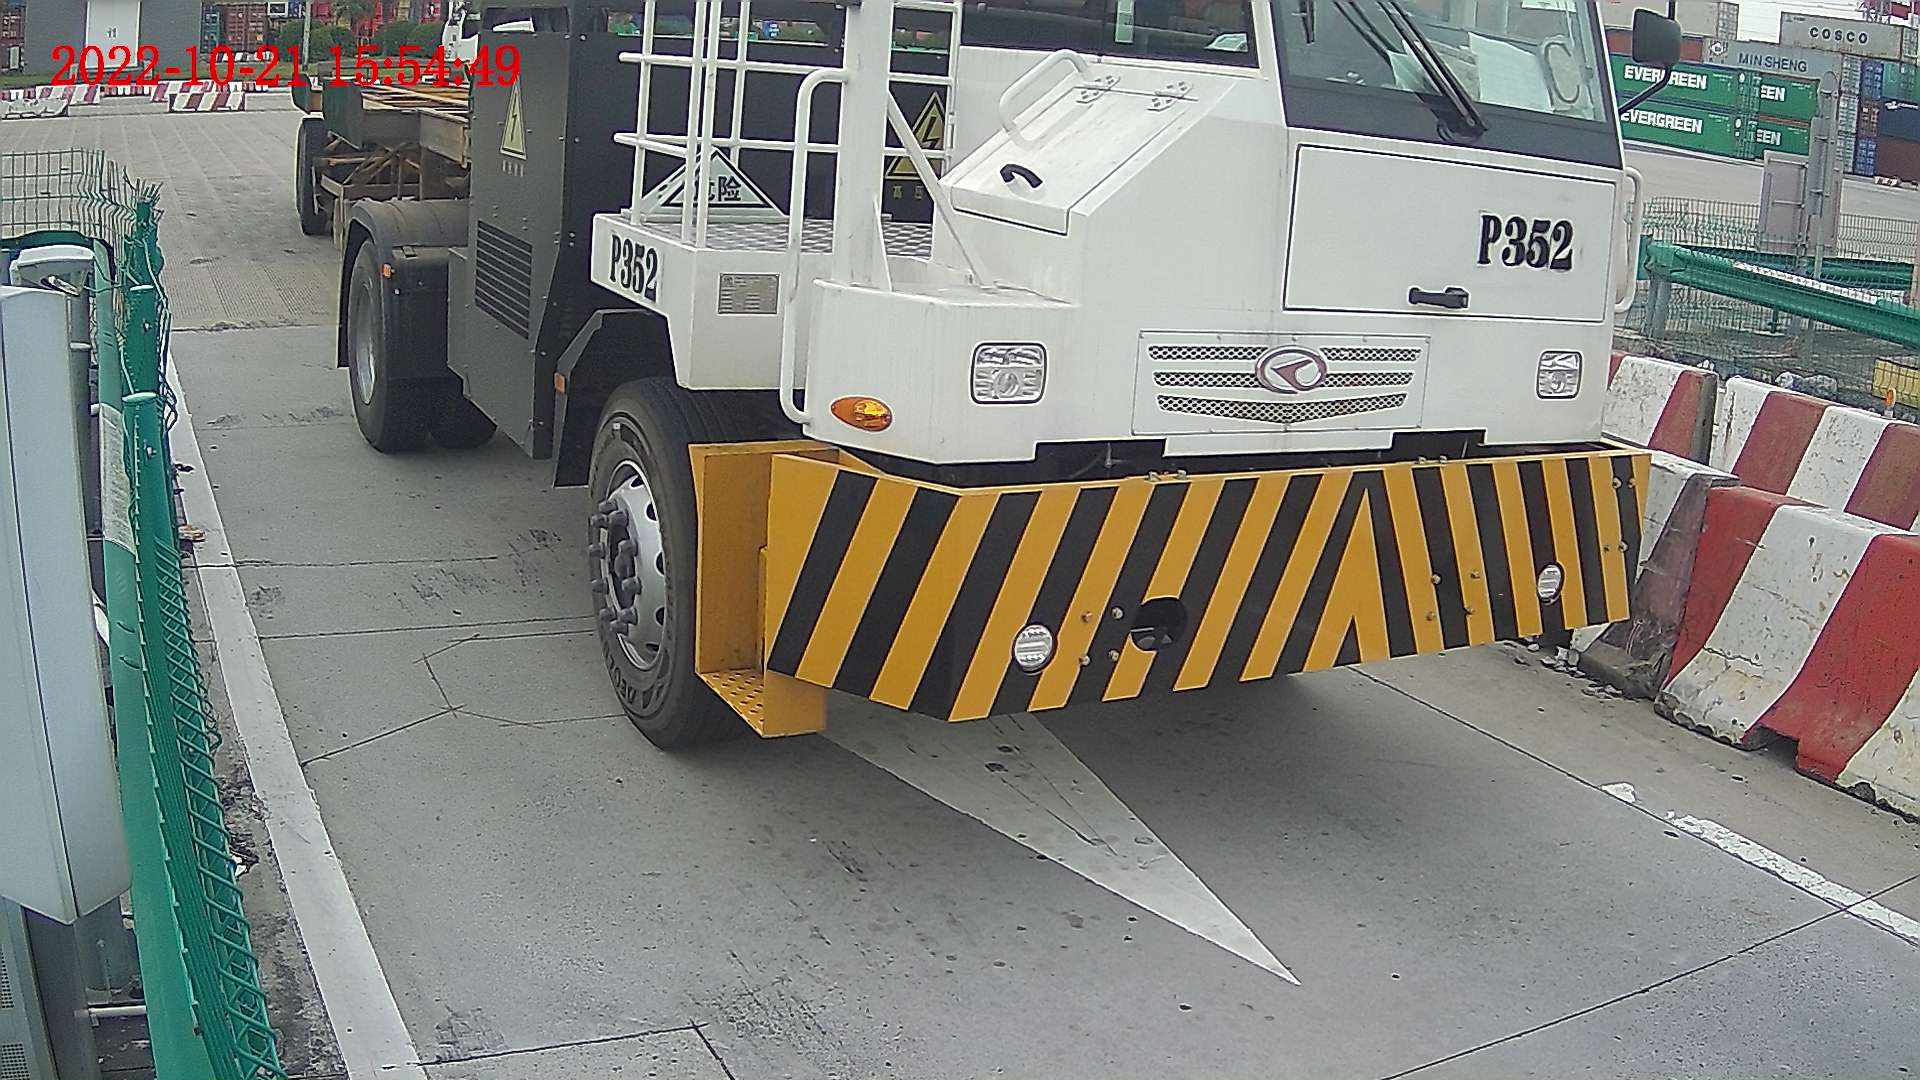head: (755, 5, 1660, 755)
